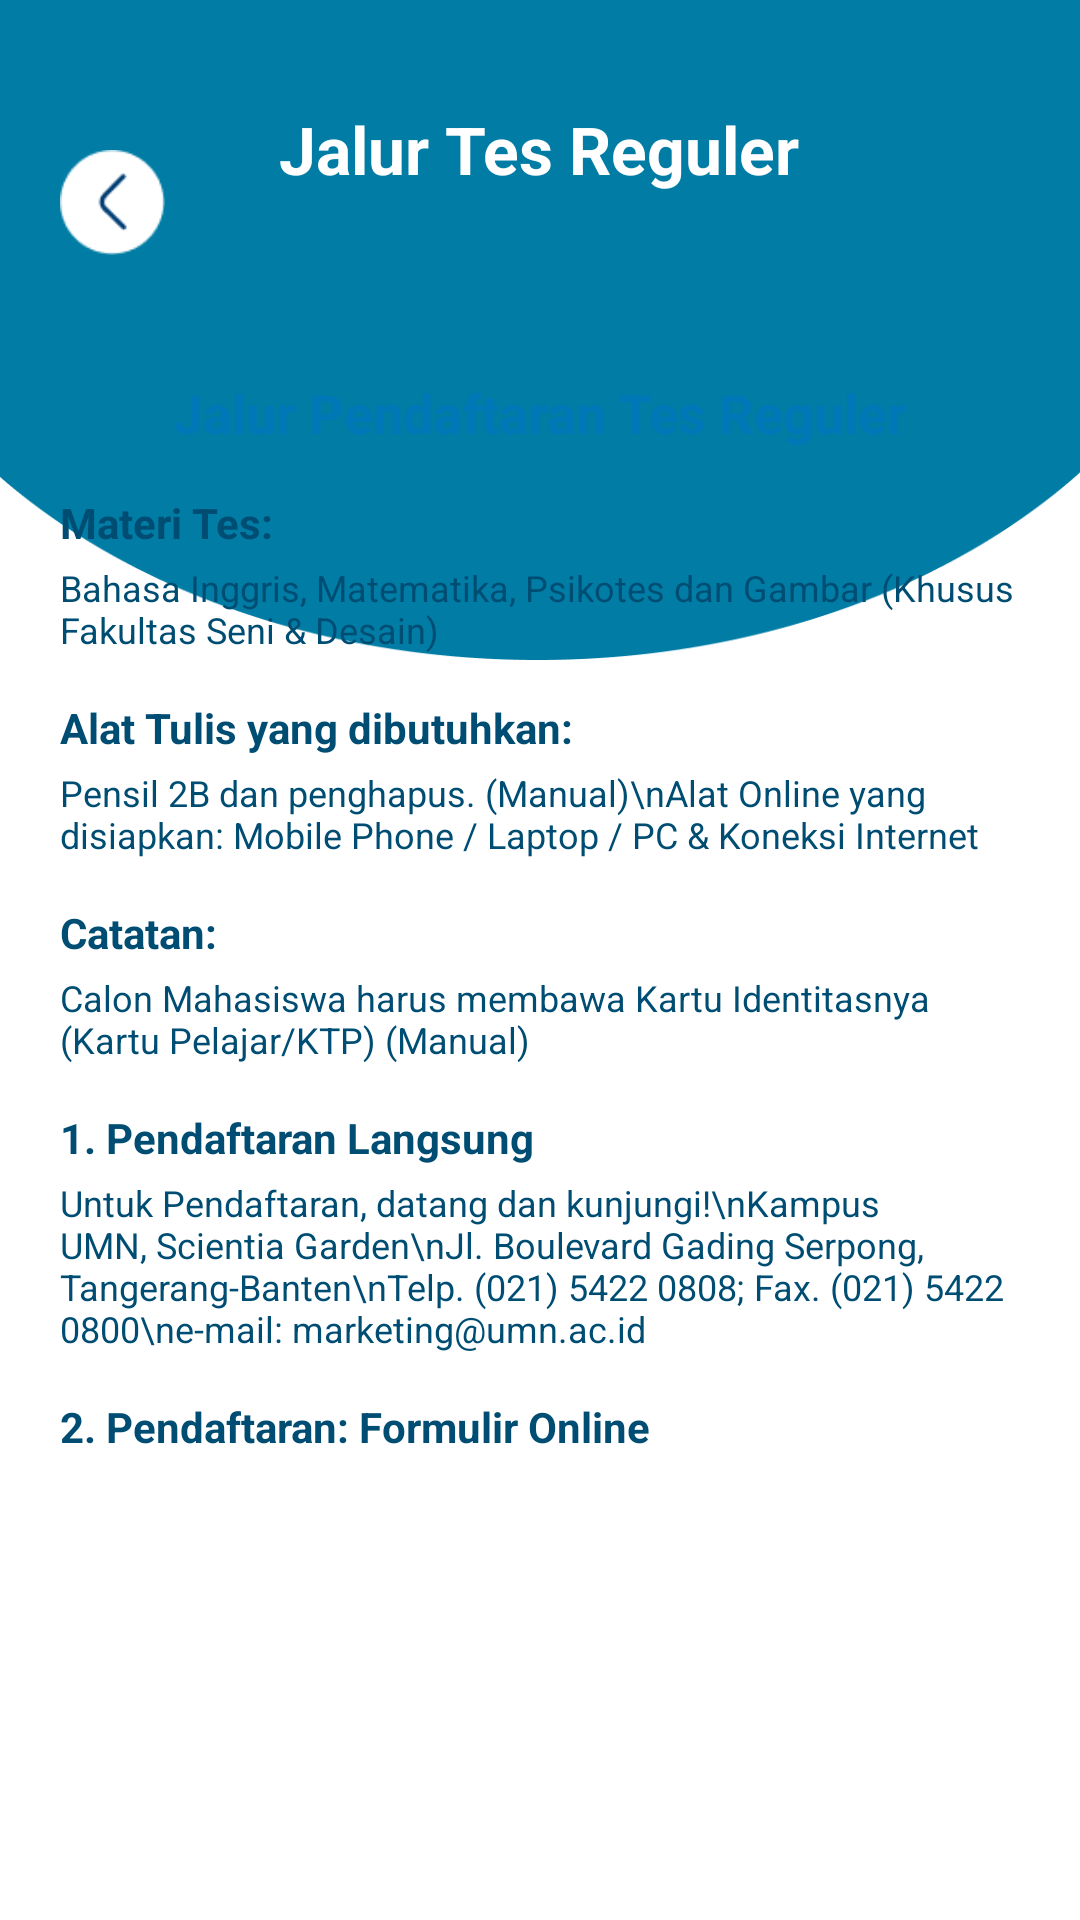

Icons on this 1080w x 1920h Android screen, each with the point to tap as (x,y):
back: (112,202)
